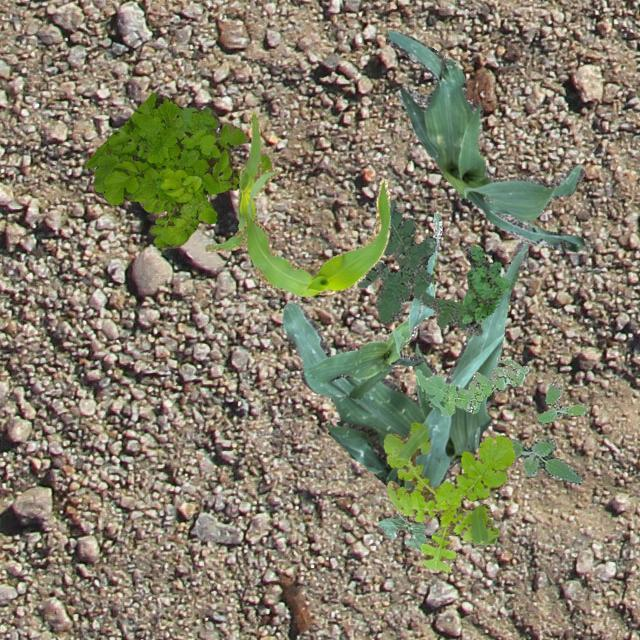crop: (282, 240, 530, 490), (384, 29, 584, 250), (203, 110, 390, 296), (302, 212, 440, 398), (378, 512, 426, 550)
weed: (83, 91, 270, 246), (382, 422, 514, 572), (358, 196, 482, 334), (414, 356, 528, 416), (462, 244, 508, 328), (508, 438, 582, 483), (536, 378, 588, 422)
